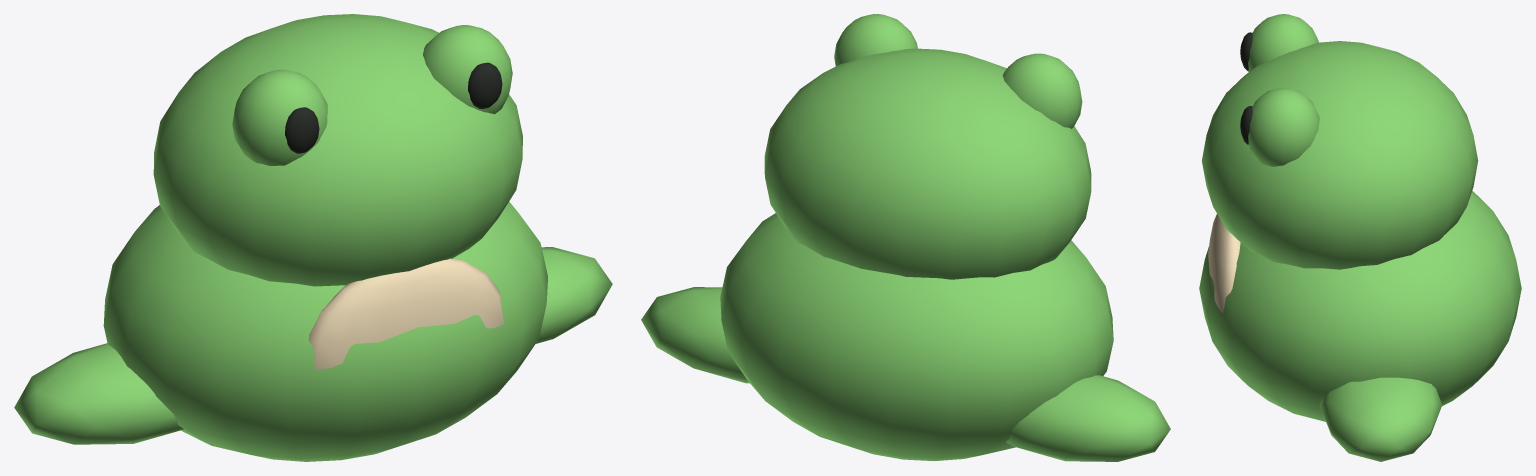
Rendered from frog.glb.
3 renders of one model, left to right at view 1: azimuth 30°, elevation 25°; view 2: azimuth 150°, elevation 25°; view 3: azimuth 270°, elevation 25°, orthographic. The views are drawn at different scales.
Visible parts, largest first — view 1: frog; view 2: frog; view 3: frog.
Part boxes in pixels (x1,y1,x2,y2): frog: (14,14,612,461); frog: (641,14,1170,461); frog: (1199,14,1521,461).
Bounding box in the file's own units: 1 × 0.6966 × 0.5891.
